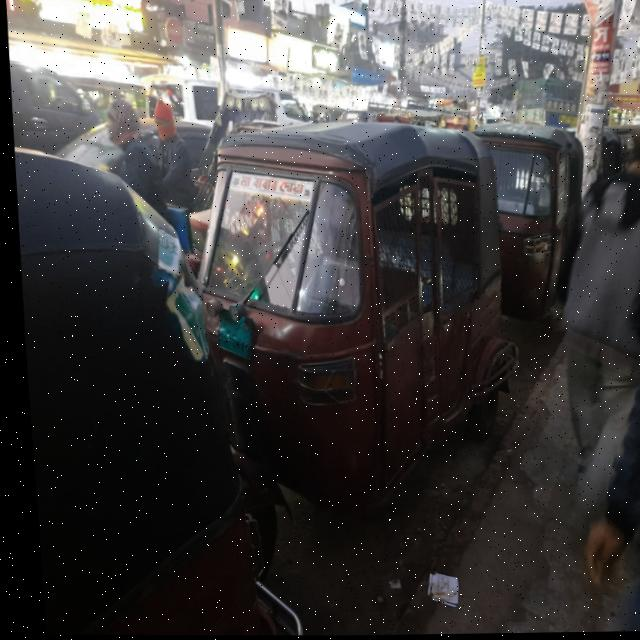cng: (176, 85, 522, 503)
